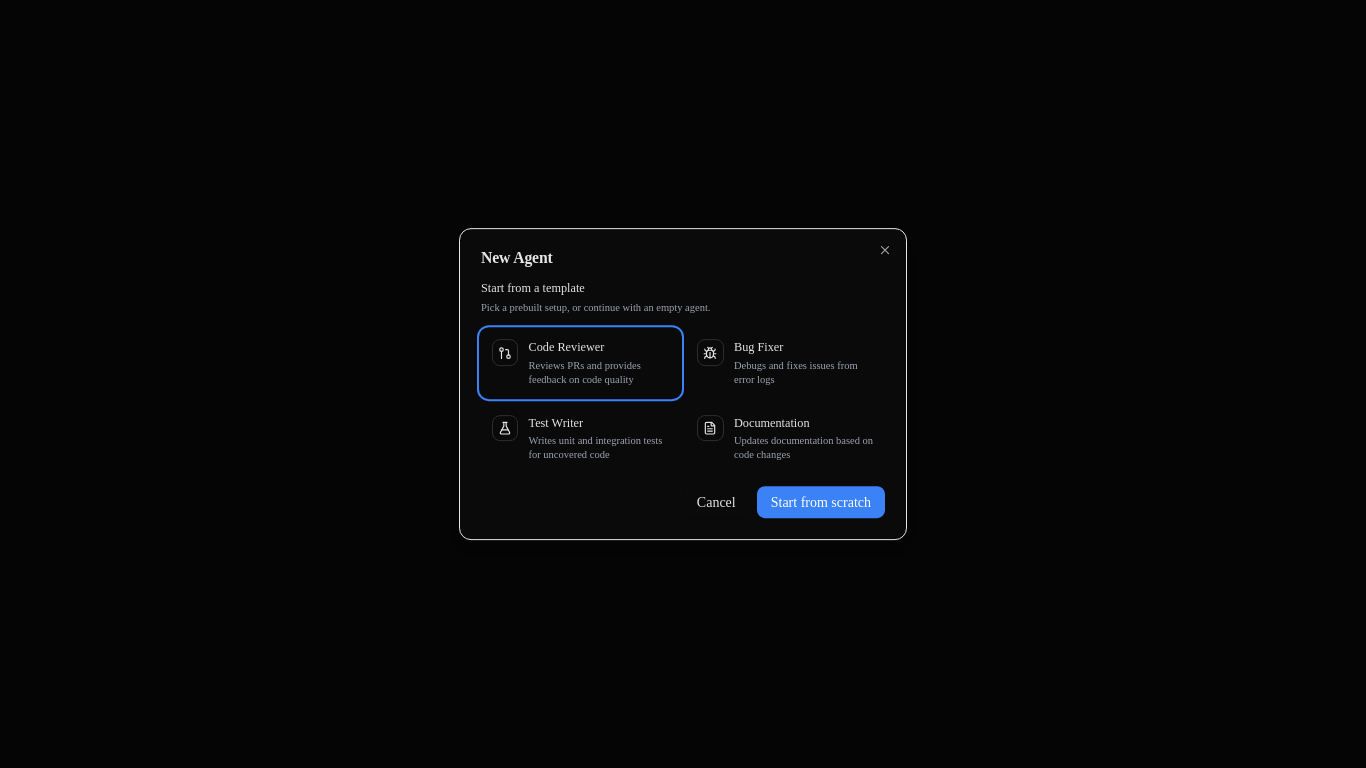
Test: AgentFormDialog › create mode rendering › shows "Starting..." text when isPending is true
Step 1. Click the button "Start from scratch" → (821, 502), box [757, 486, 885, 518]
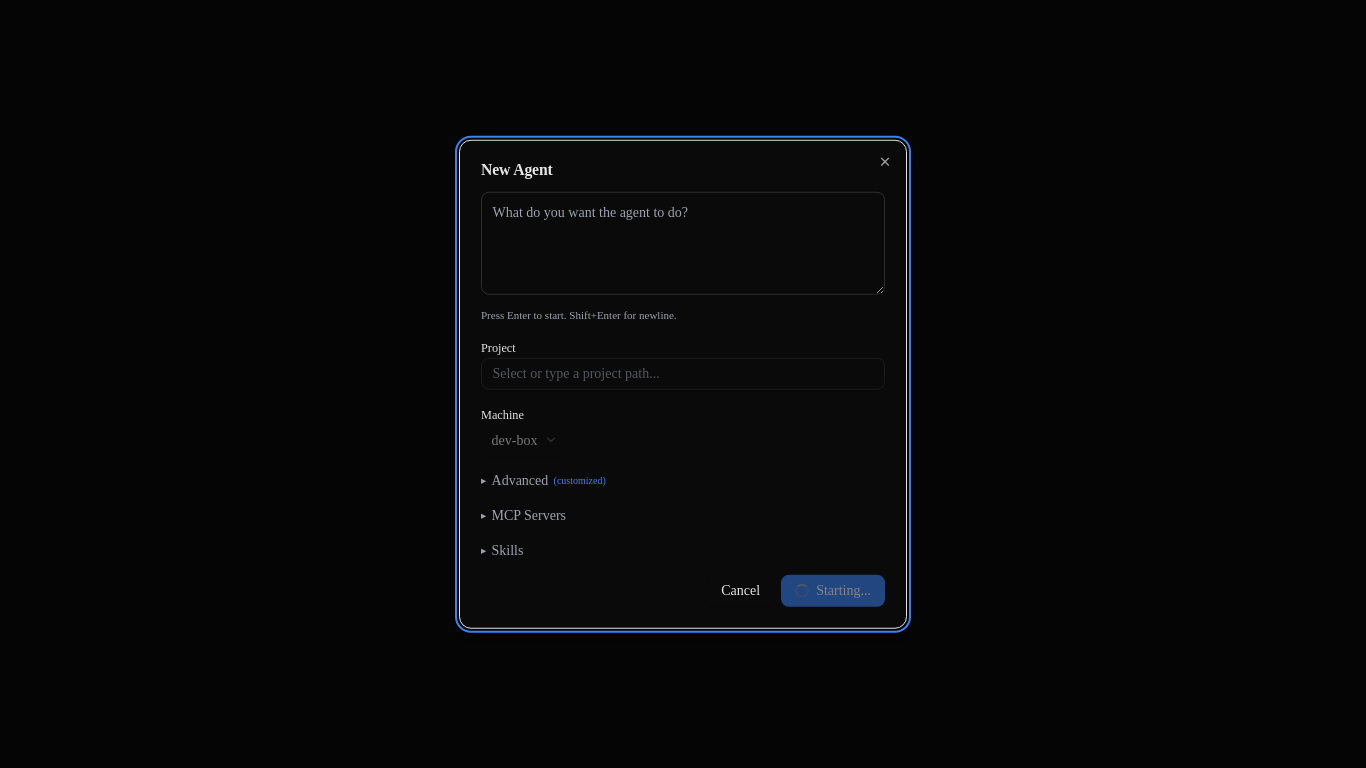
Result: the button "Starting..." is shown at [781, 575, 885, 606]
